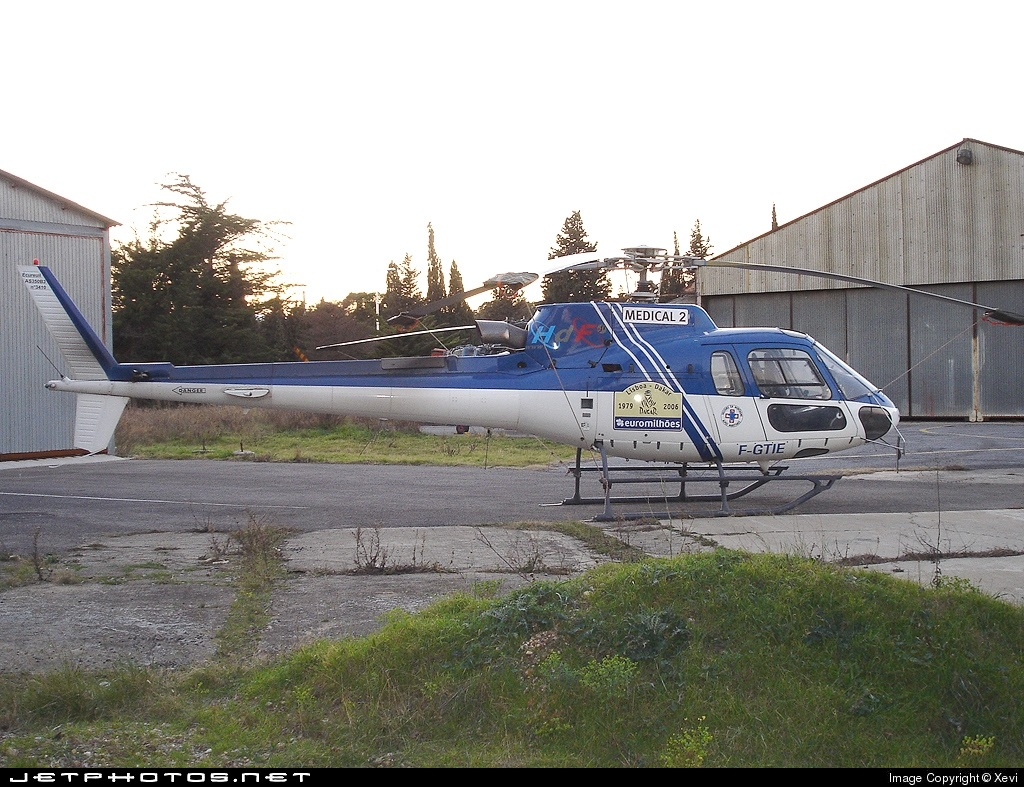number: (733, 439, 788, 457)
